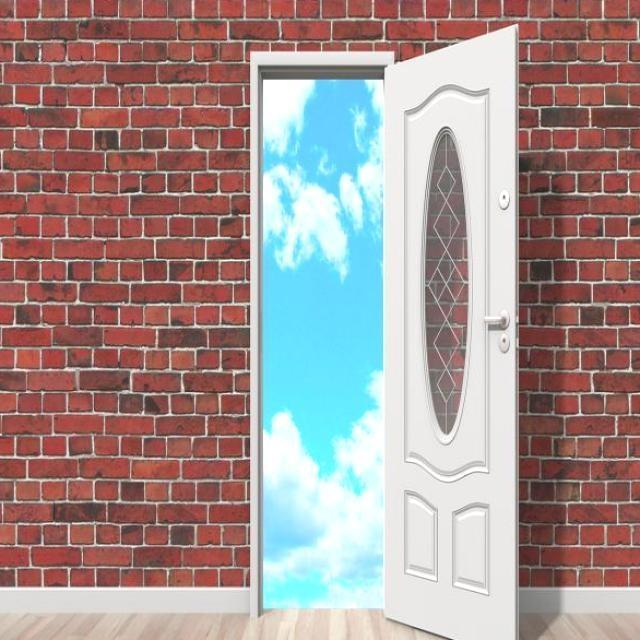door: (382, 23, 519, 639)
